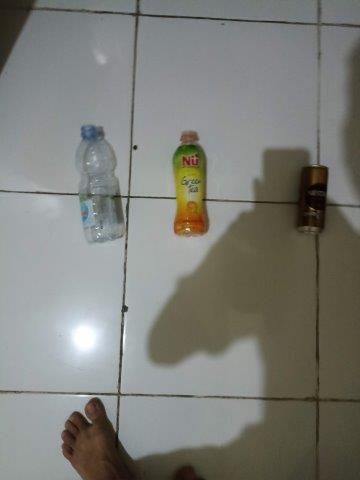botolplastik: (75, 125, 123, 243), (172, 131, 209, 237)
kaleng: (296, 164, 329, 235)
